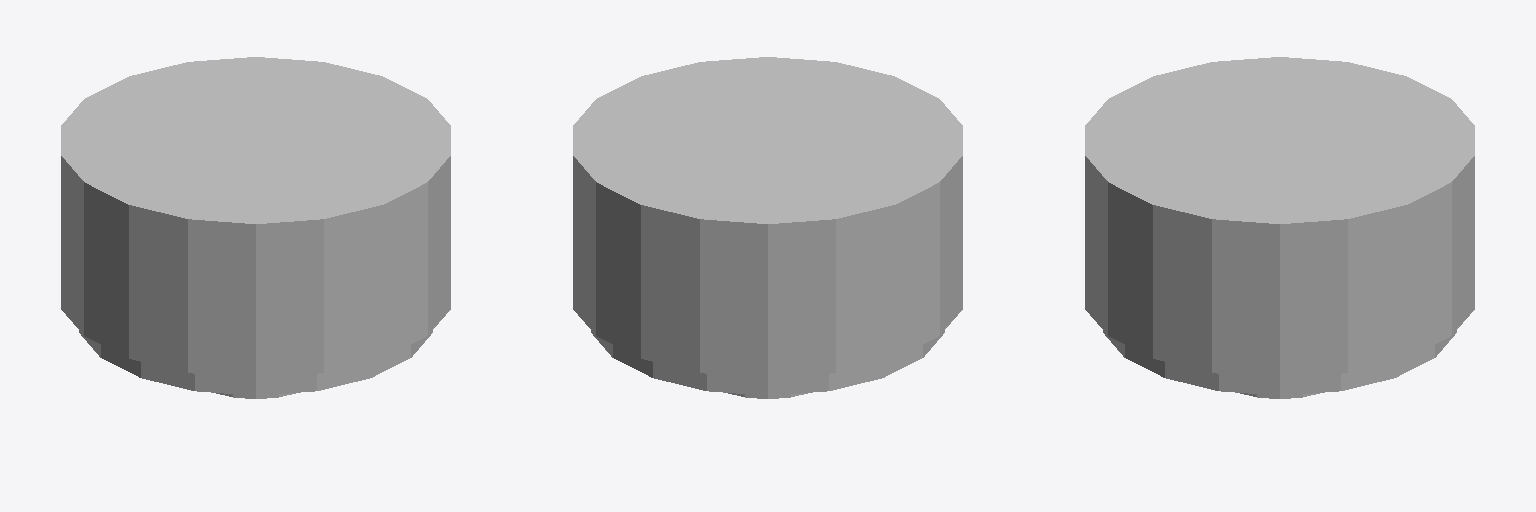
The model's file is stamper_top.obj.
3 renders of one model, left to right at view 1: azimuth 30°, elevation 25°; view 2: azimuth 150°, elevation 25°; view 3: azimuth 270°, elevation 25°, orthographic.
Parts seen in each view (by area): view 1: stamper_top; view 2: stamper_top; view 3: stamper_top.
Boxes of the visible parts, <box> form: stamper_top: <box>61,57,450,398</box>; stamper_top: <box>573,57,962,398</box>; stamper_top: <box>1085,57,1474,398</box>.
Size of the model in its own units: 16.54 by 10.63 by 16.28.